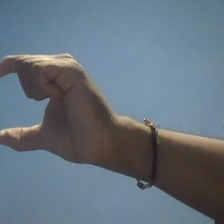G: (1, 46, 107, 173)
